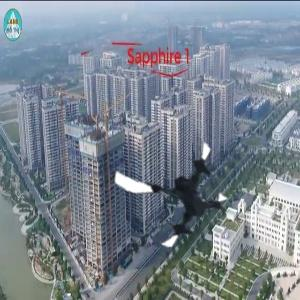drone: (111, 127, 236, 252)
